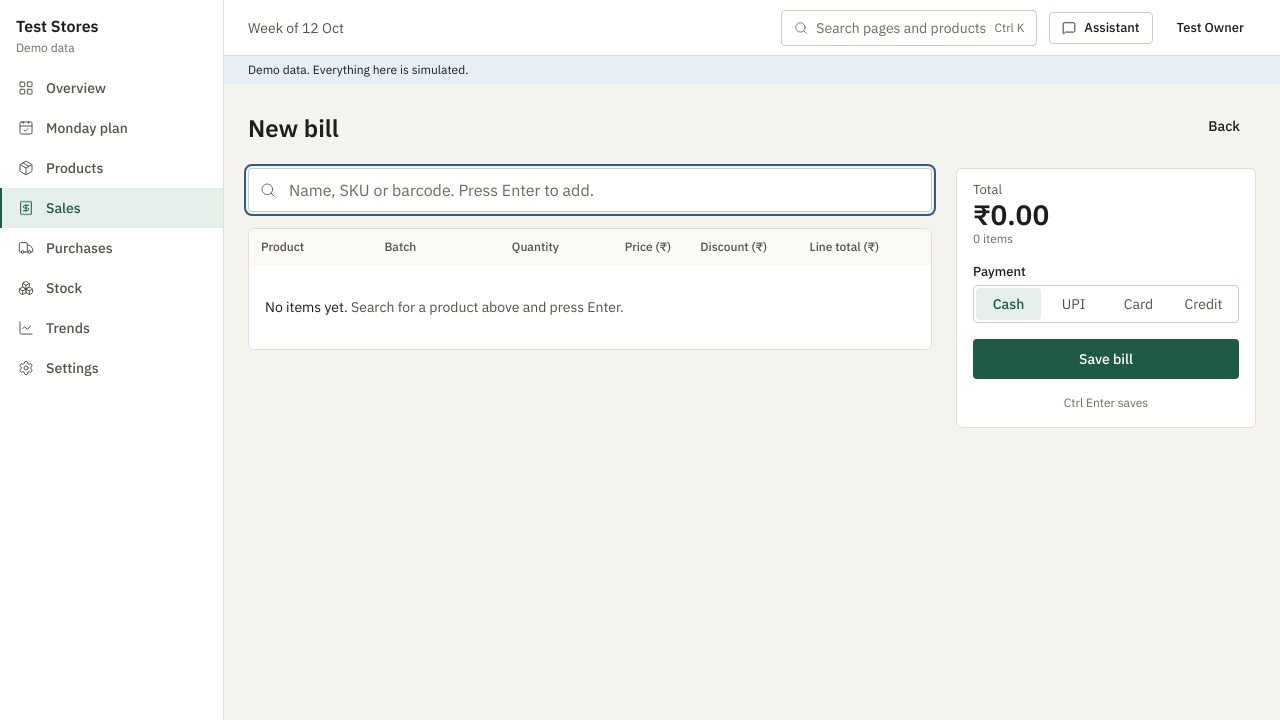
Scenario: sale entry keyboard flow › does not save a bill with a bad quantity and says why
The width and height of the screenshot is (1280, 720).
Type "pepper" into the dropdown named "Find a product" at (590, 190), box [248,168,932,212]
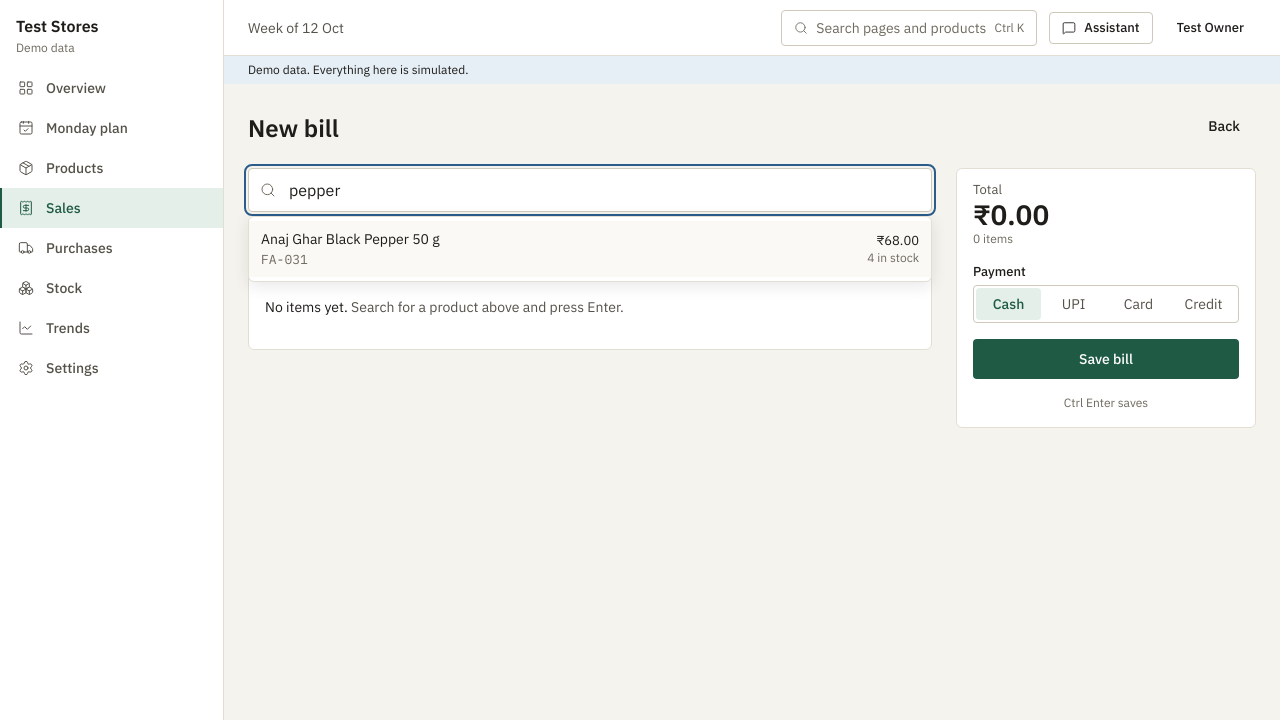
Expected: the option "Anaj Ghar Black Pepper 50 g FA-031 ₹68.00 4 in stock" is shown, [249,221,931,277]
Press Enter
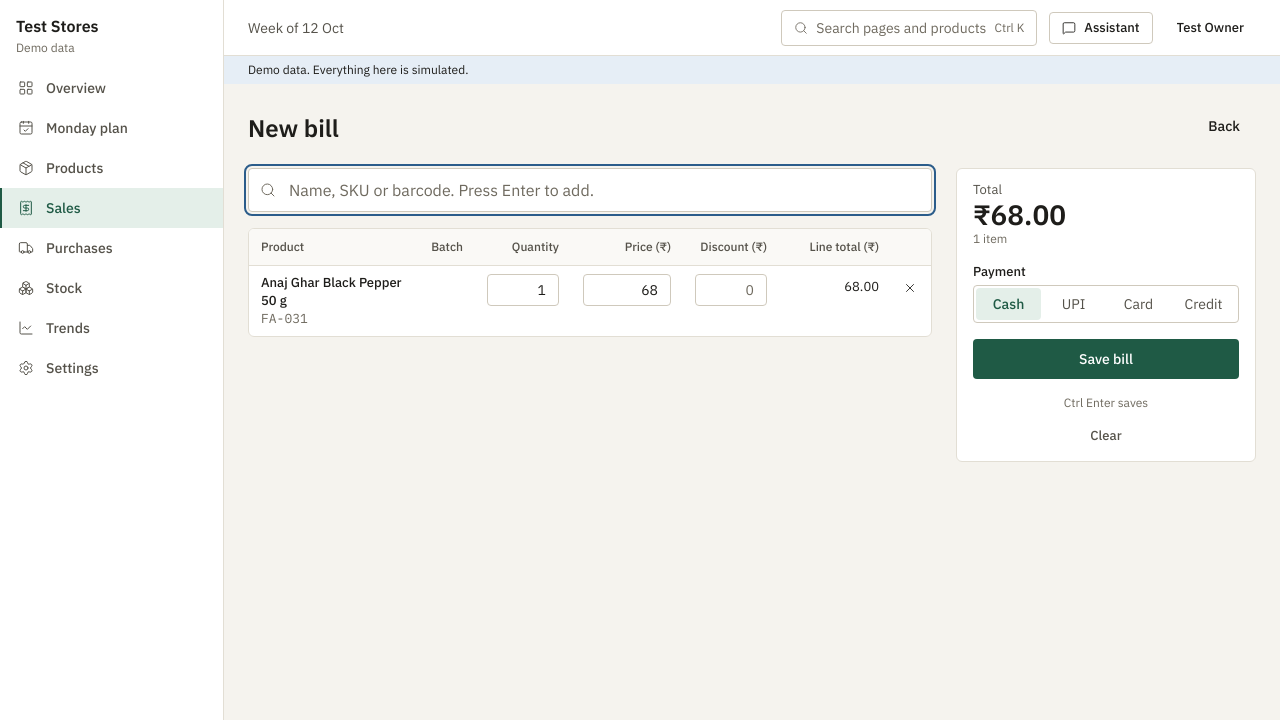
Replace the text in the field named "Quantity of Anaj Ghar Black Pepper 50 g" with "0" at (523, 290), box [487,274,559,306]
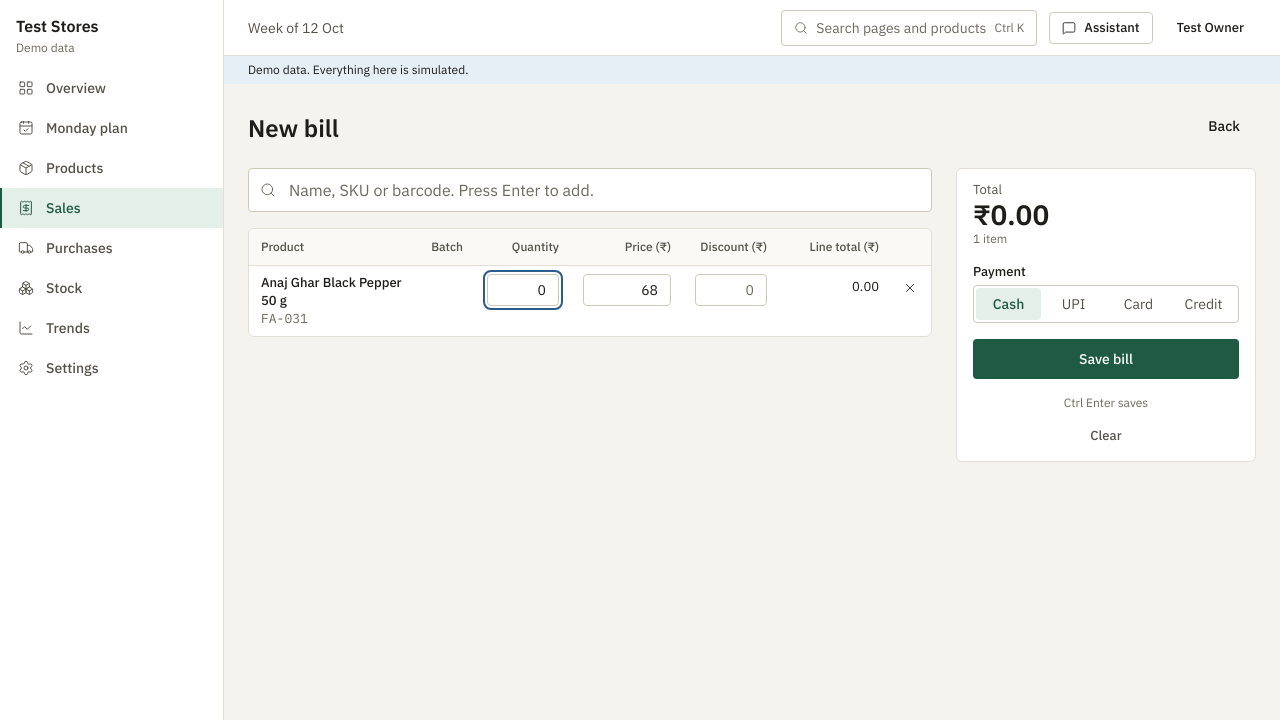
Click the button "Save bill" at (1106, 359), box [973,339,1239,379]
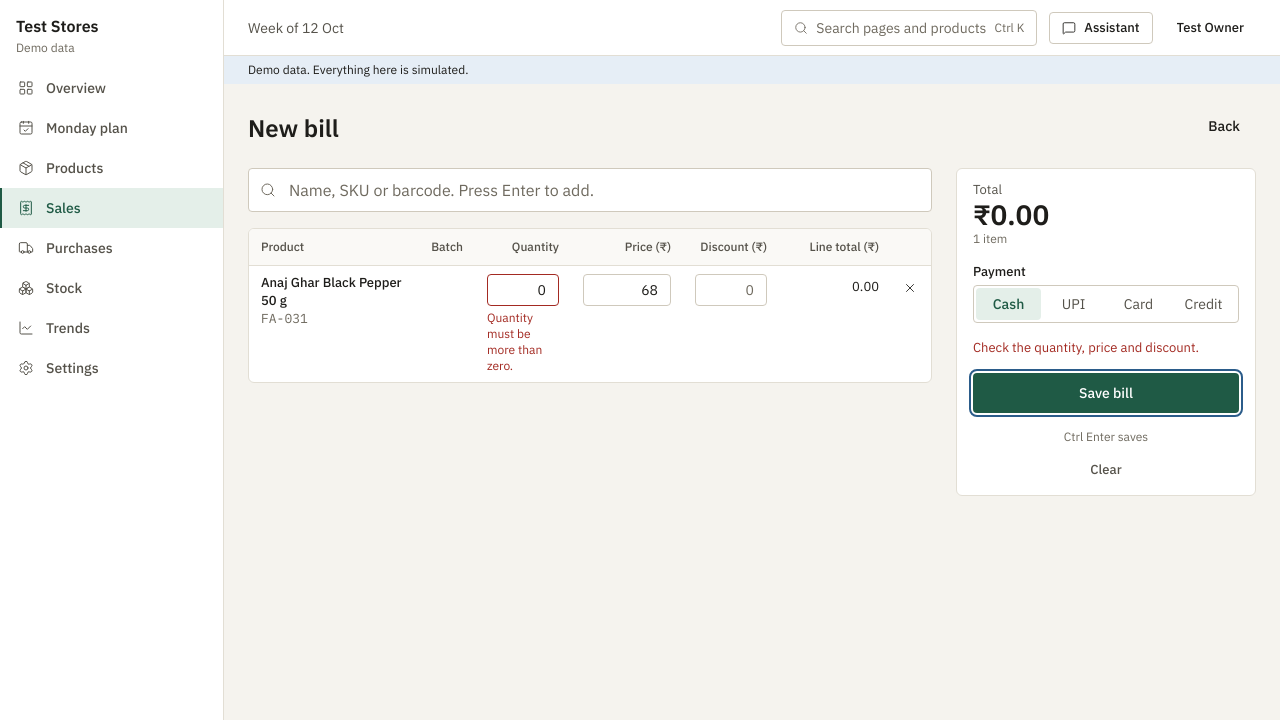
Expected: the text "Quantity must be more than zero." is shown, [487,310,542,373]
